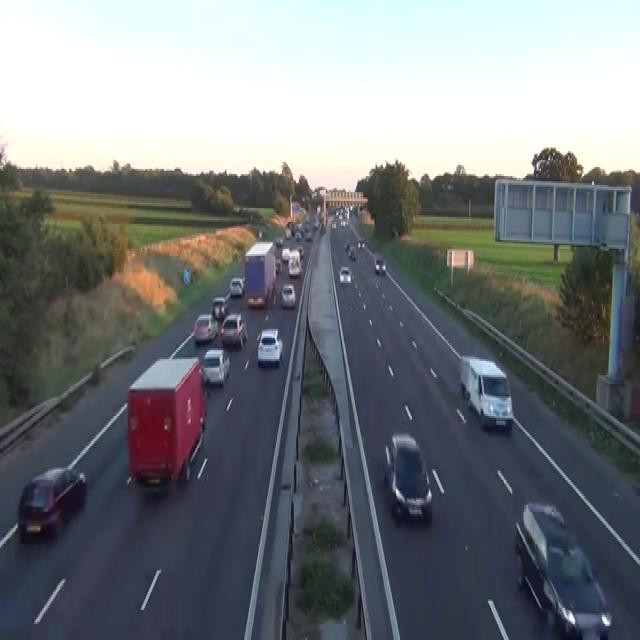Car: (514, 502, 612, 638), (17, 466, 87, 540), (382, 432, 432, 523), (201, 348, 230, 388), (256, 327, 283, 366), (220, 313, 247, 348), (193, 313, 217, 343), (211, 295, 228, 320), (280, 282, 295, 308), (287, 251, 301, 277), (229, 275, 244, 297), (339, 265, 352, 284), (247, 295, 265, 308), (374, 256, 386, 274), (281, 247, 290, 261), (348, 246, 356, 260), (274, 258, 282, 272), (296, 246, 304, 260), (274, 235, 283, 245), (357, 238, 365, 249), (284, 228, 291, 238), (344, 240, 350, 251), (305, 231, 312, 240), (340, 218, 346, 228), (313, 219, 319, 229), (286, 220, 293, 228), (295, 231, 301, 240), (331, 220, 336, 228), (258, 228, 262, 238)
Truck: (126, 356, 206, 487), (460, 354, 513, 432), (244, 240, 276, 308)
